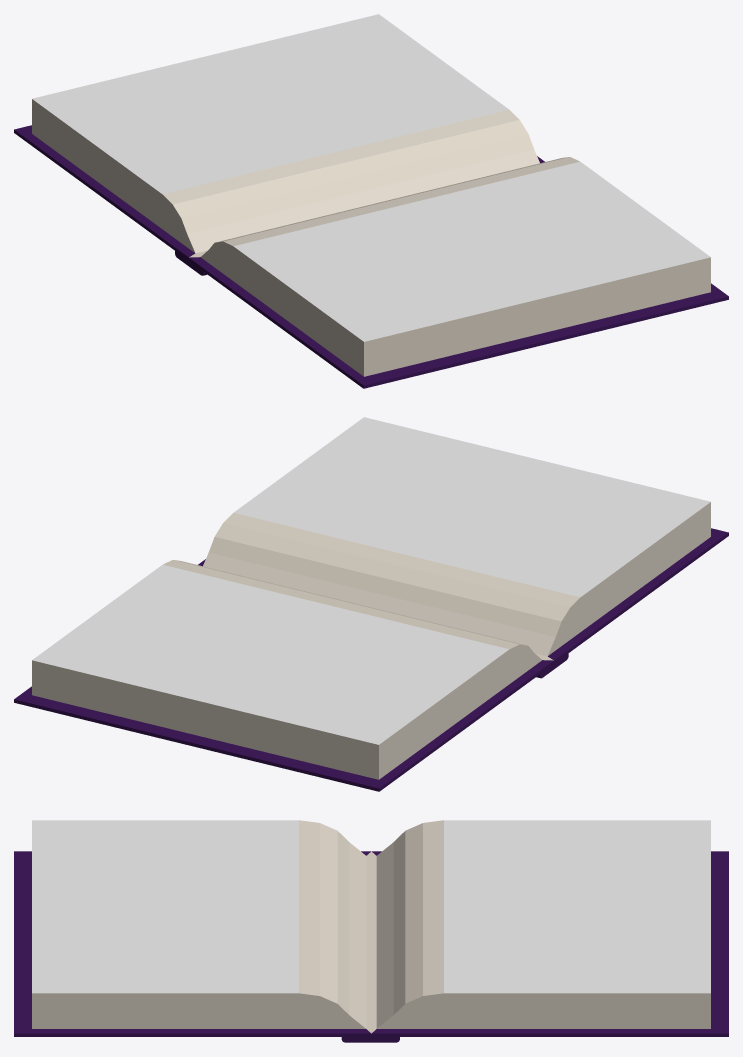
Rendered from book_base.fbx.
3 views of the same model, one above another, from view 1: azimuth 30°, elevation 25°; view 2: azimuth 150°, elevation 25°; view 3: azimuth 270°, elevation 25° (orthographic). The views are drawn at different scales.
Parts seen in each view (by area): view 1: Cube; view 2: Cube; view 3: Cube.
Part boxes in pixels (<box>): Cube: <box>14,14,728,388</box>; Cube: <box>14,417,728,791</box>; Cube: <box>14,820,728,1042</box>.
Bounding box in the file's own units: 121 × 13.84 × 200.
